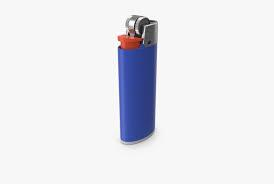lighter: (118, 18, 159, 144)
